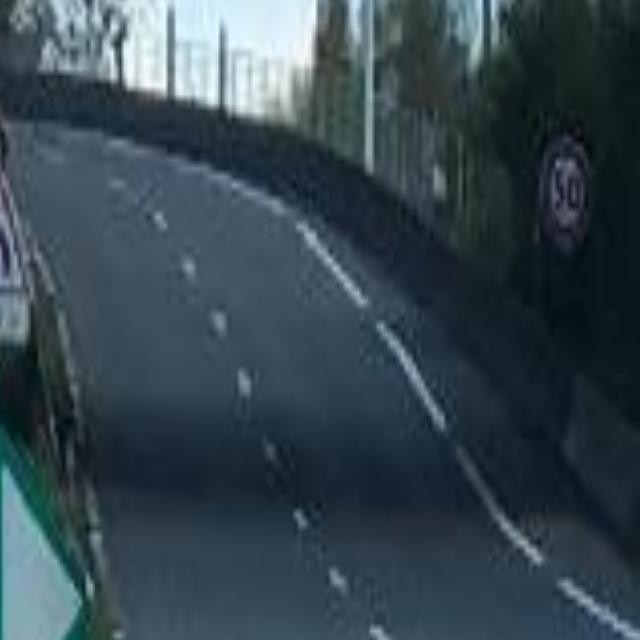speed_50: (540, 137, 594, 249)
